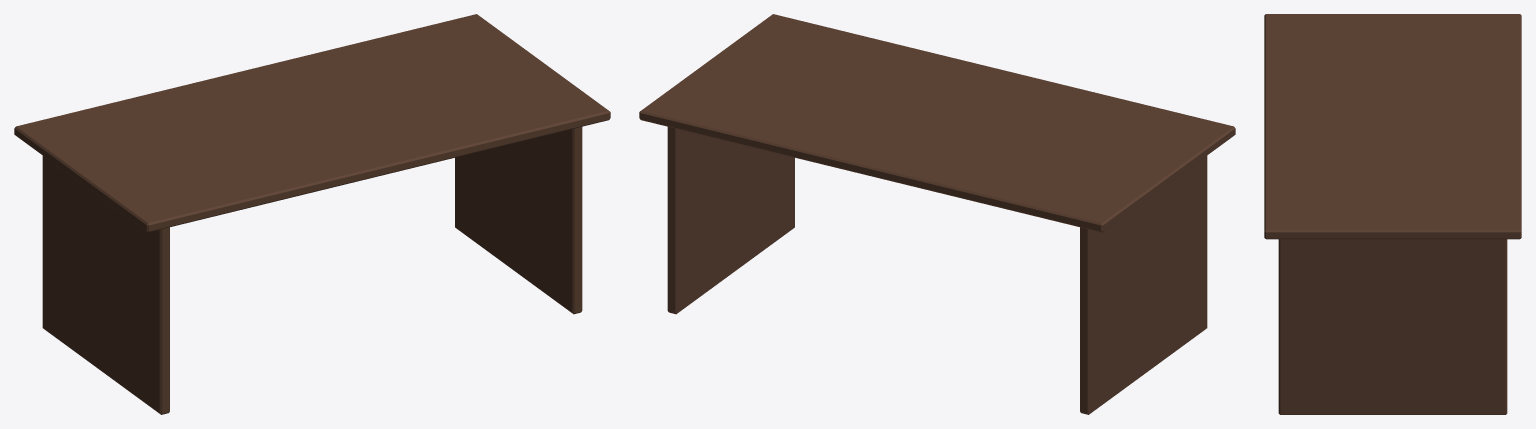
Rendered from i_table_2.glb.
The picture shows the model from 3 angles, left to right: view 1: azimuth 30°, elevation 25°; view 2: azimuth 150°, elevation 25°; view 3: azimuth 270°, elevation 25°; orthographic projection. The views are drawn at different scales.
Visible parts, largest first — view 1: o, o.001, o.002; view 2: o, o.001, o.002; view 3: o, o.002.
Boxes of the visible parts, x1,y1,x2,y2 form: o: (14,14,610,232); o.001: (42,156,169,414); o.002: (455,127,582,314); o: (639,14,1235,232); o.001: (1080,156,1207,414); o.002: (667,127,794,314); o: (1264,14,1521,239); o.002: (1278,239,1507,414).
Bounding box in the file's own units: 1.8 × 0.75 × 0.9.
